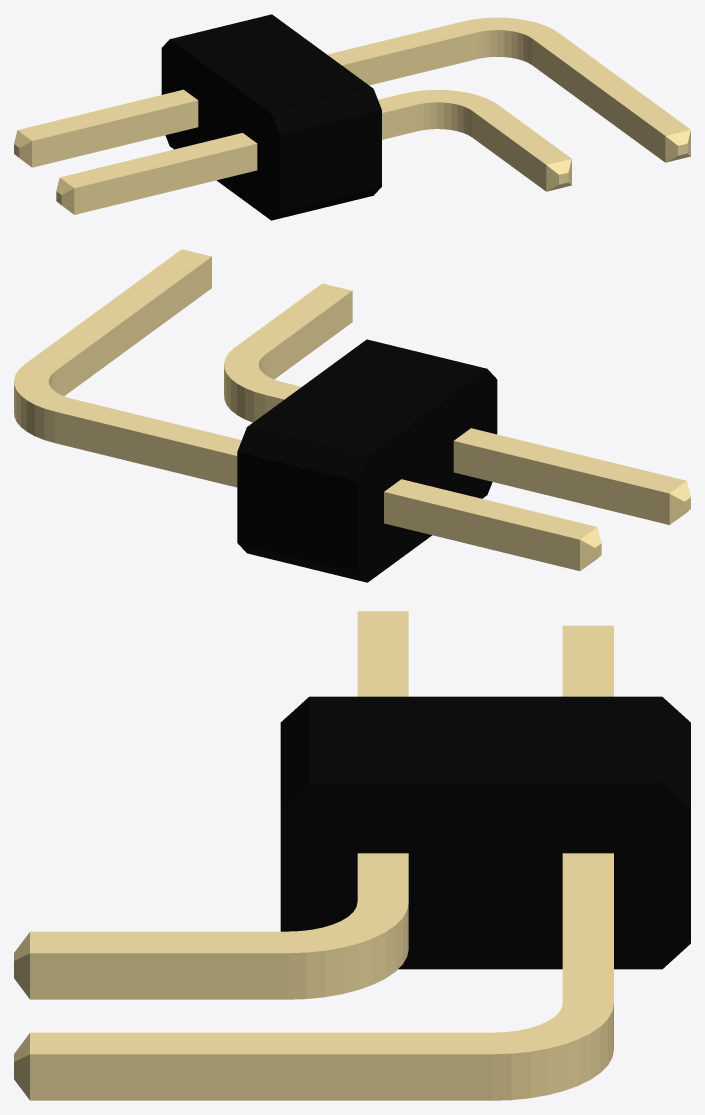
The model's file is DoubleGoldPin.gltf.
The picture shows the model from 3 angles, top to bottom: view 1: azimuth 30°, elevation 25°; view 2: azimuth 150°, elevation 25°; view 3: azimuth 270°, elevation 25°; orthographic projection. The views are drawn at different scales.
Visible parts, largest first — view 1: Plastic, LongPin, ShortPin; view 2: Plastic, LongPin, ShortPin; view 3: Plastic, LongPin, ShortPin.
Boxes of the visible parts, box(x1,y1,x2,y2) form: Plastic: box(161, 14, 381, 220); LongPin: box(14, 17, 690, 167); ShortPin: box(56, 90, 571, 214); Plastic: box(237, 339, 497, 582); LongPin: box(14, 249, 601, 570); ShortPin: box(224, 283, 690, 524); Plastic: box(280, 696, 690, 969); LongPin: box(14, 625, 613, 1100); ShortPin: box(14, 611, 408, 999).
Size of the model in its own units: 0.0126 by 0.00242 by 0.00798.
